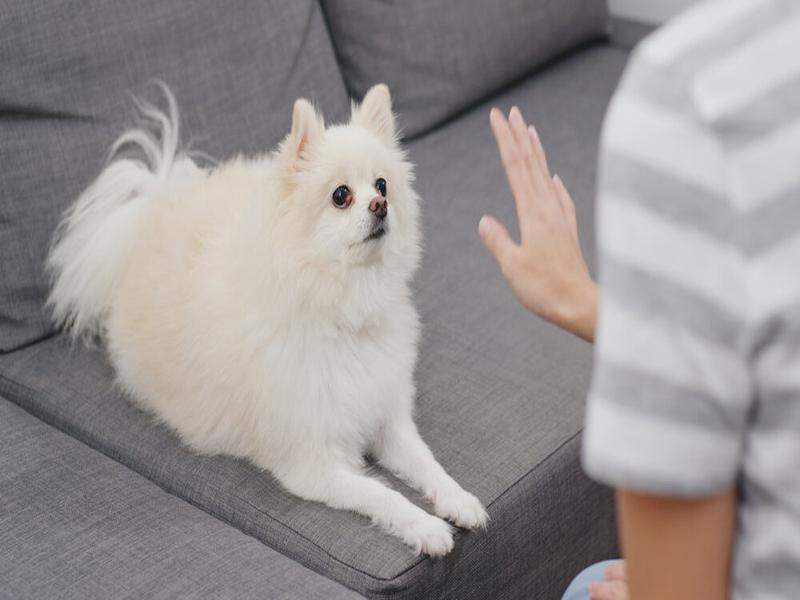dog_down: (27, 81, 490, 560)
